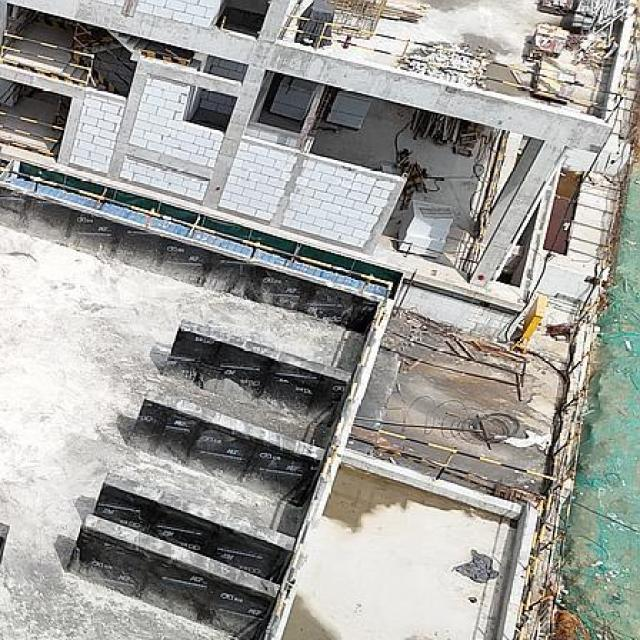edge_guardrail: (0, 164, 393, 640), (350, 421, 560, 640), (280, 15, 626, 124), (531, 310, 596, 640), (0, 28, 94, 87), (474, 131, 511, 245), (0, 109, 64, 157), (382, 234, 478, 264)
